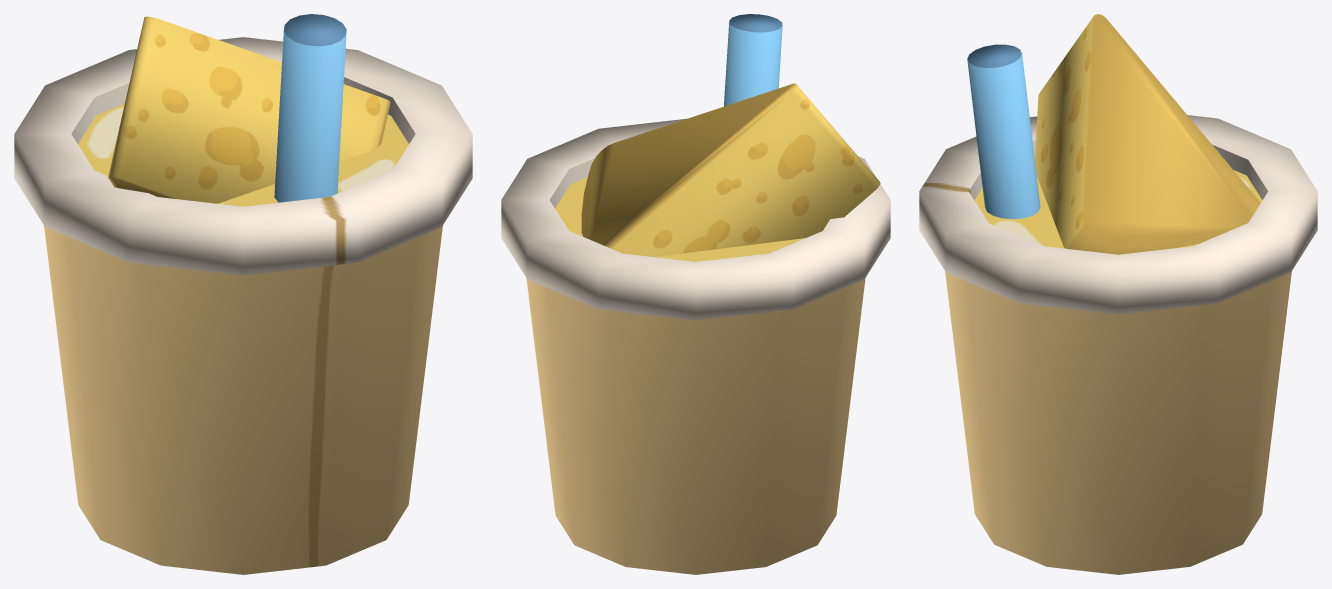
File: jerryFavorite.fbx
3 views of the same model, side by side, from view 1: azimuth 30°, elevation 25°; view 2: azimuth 150°, elevation 25°; view 3: azimuth 270°, elevation 25° (orthographic). The views are drawn at different scales.
Visible parts, largest first — view 1: JerryFavorite; view 2: JerryFavorite; view 3: JerryFavorite.
Part boxes in pixels (x1,y1,x2,y2): JerryFavorite: (14, 14, 472, 574); JerryFavorite: (501, 14, 890, 574); JerryFavorite: (919, 14, 1317, 574).
Size of the model in its own units: 45.46 by 58.02 by 45.46.
Materials: 1 (1 with a texture image).
